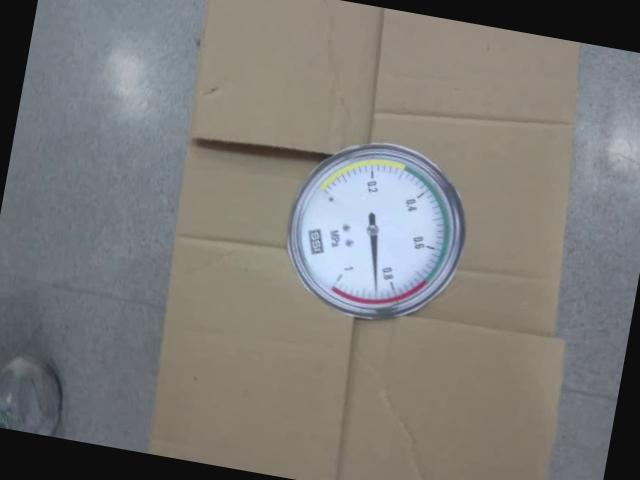Dashboard: (278, 128, 480, 336)
ssi: (302, 224, 327, 259)
